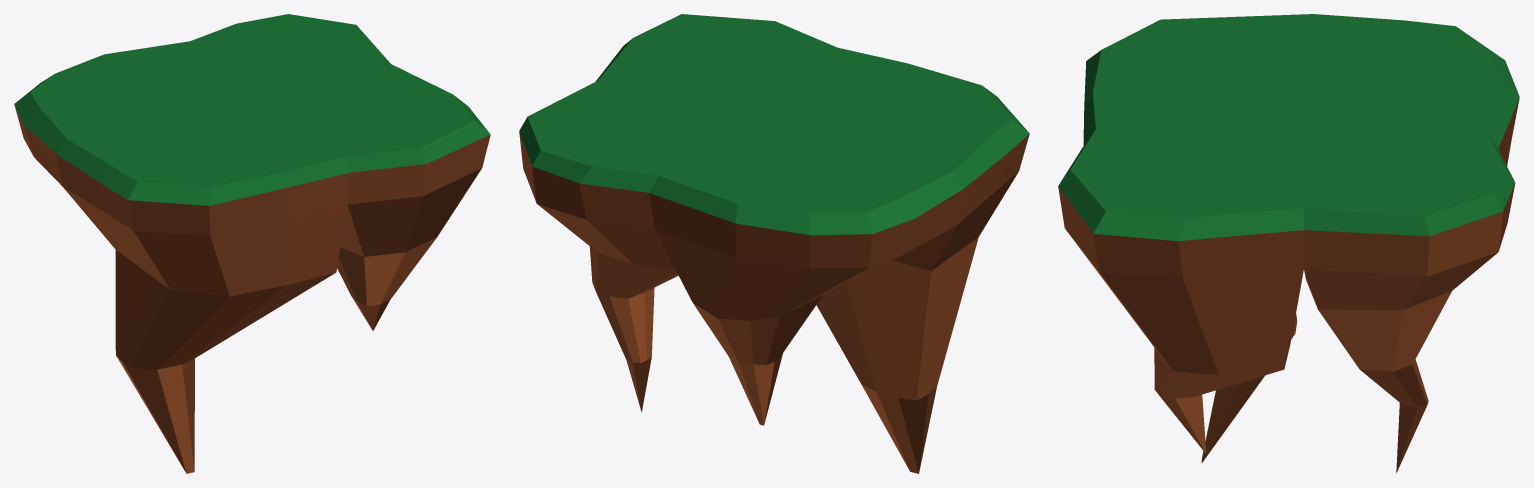
The model's file is Island02_FBX.fbx.
The picture shows the model from 3 angles, left to right: view 1: azimuth 30°, elevation 25°; view 2: azimuth 150°, elevation 25°; view 3: azimuth 270°, elevation 25°; orthographic projection. The views are drawn at different scales.
Parts seen in each view (by area): view 1: Island_002; view 2: Island_002; view 3: Island_002.
Part boxes in pixels (bbox=[...]): Island_002: bbox=[14, 14, 490, 473]; Island_002: bbox=[519, 14, 1029, 473]; Island_002: bbox=[1058, 14, 1519, 473].
Bounding box in the file's own units: 2107 × 1804 × 1890.
